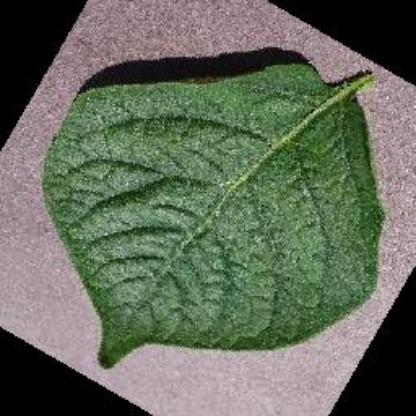Healthy-plant: (41, 58, 385, 369)
